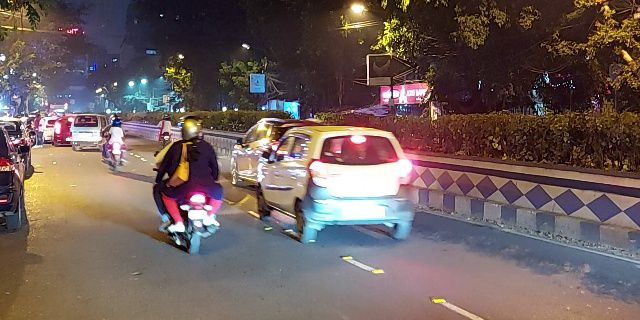Car: (278, 124, 431, 244)
Motorbike: (153, 115, 221, 263), (101, 113, 127, 178)
